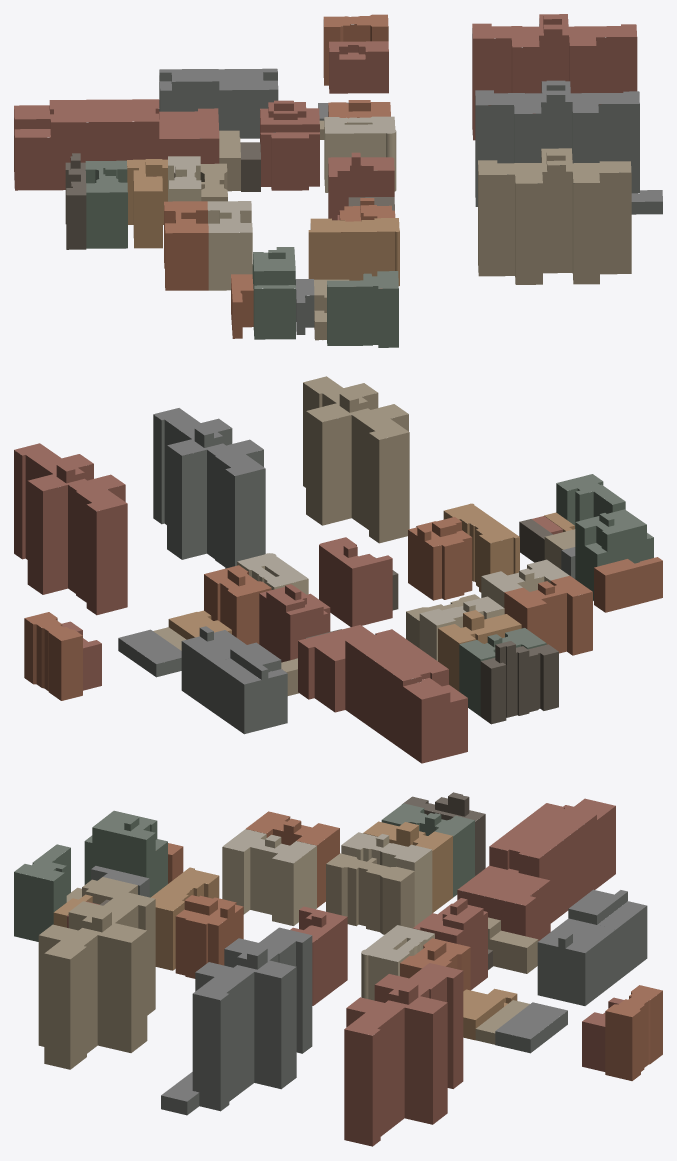
The model's file is tile-8_5.glb.
3 renders of one model, top to bottom at view 1: azimuth 30°, elevation 25°; view 2: azimuth 150°, elevation 25°; view 3: azimuth 270°, elevation 25°, orthographic. The views are drawn at different scales.
Visible parts, largest first — view 1: wall, roof; view 2: wall, roof; view 3: wall, roof.
Boxes of the visible parts, x1=… form: wall: x1=14, y1=16, x2=662, y2=347; roof: x1=14, y1=14, x2=662, y2=321; wall: x1=14, y1=383, x2=662, y2=763; roof: x1=14, y1=376, x2=662, y2=702; wall: x1=14, y1=795, x2=662, y2=1146; roof: x1=14, y1=792, x2=662, y2=1101.
Bounding box in the file's own units: 214 × 44.54 × 200.
